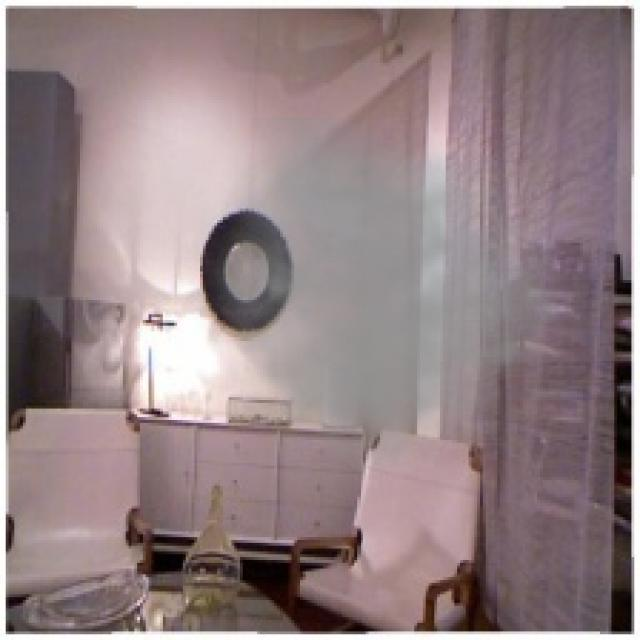Smoke: (180, 117, 577, 509)
